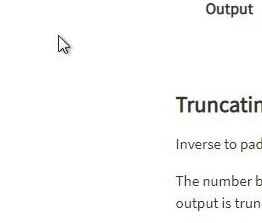cursor: (57, 33, 71, 55)
